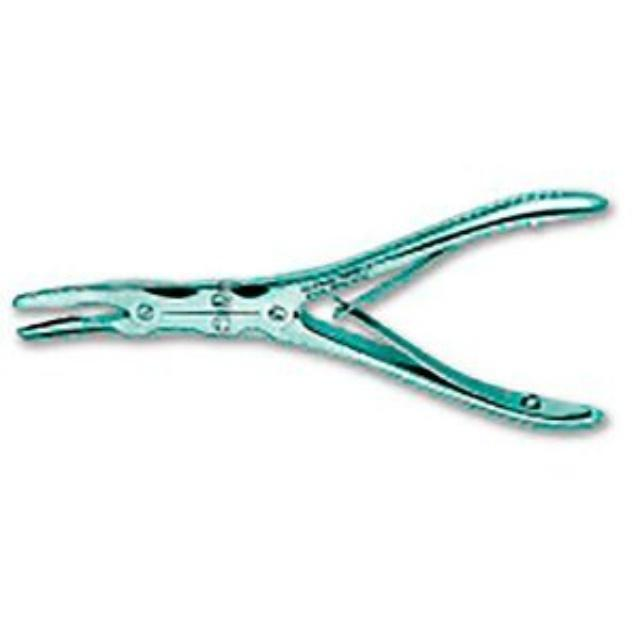gubia: (10, 188, 613, 436)
